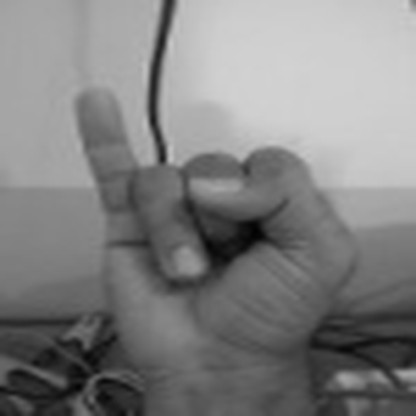i: (61, 82, 360, 376)
